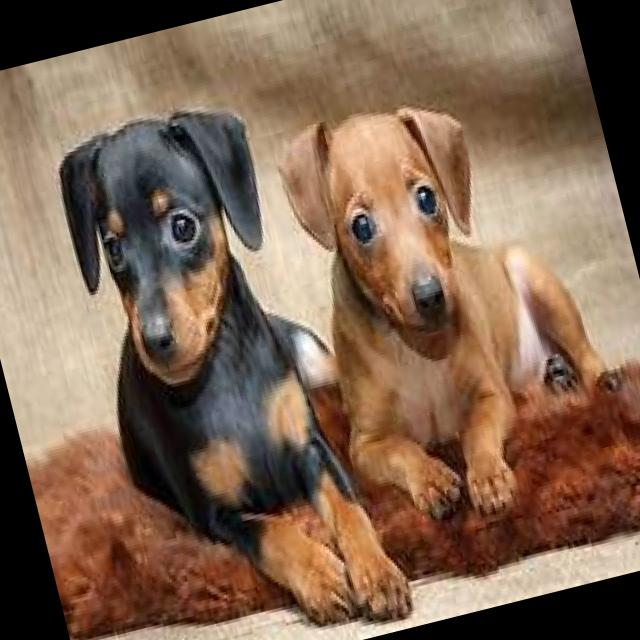animal: (0, 78, 420, 640), (266, 62, 639, 545)
